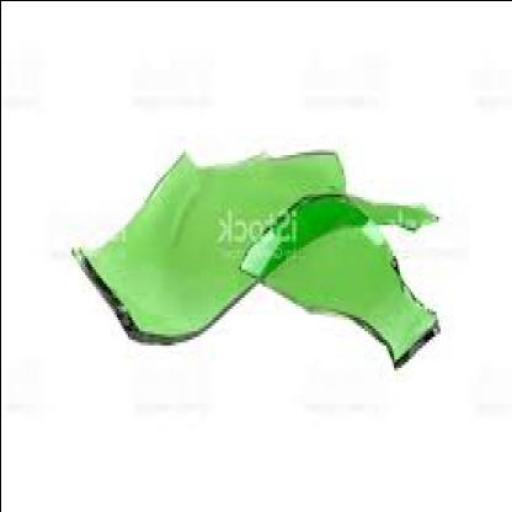glass: (72, 145, 440, 336), (238, 187, 441, 369)
